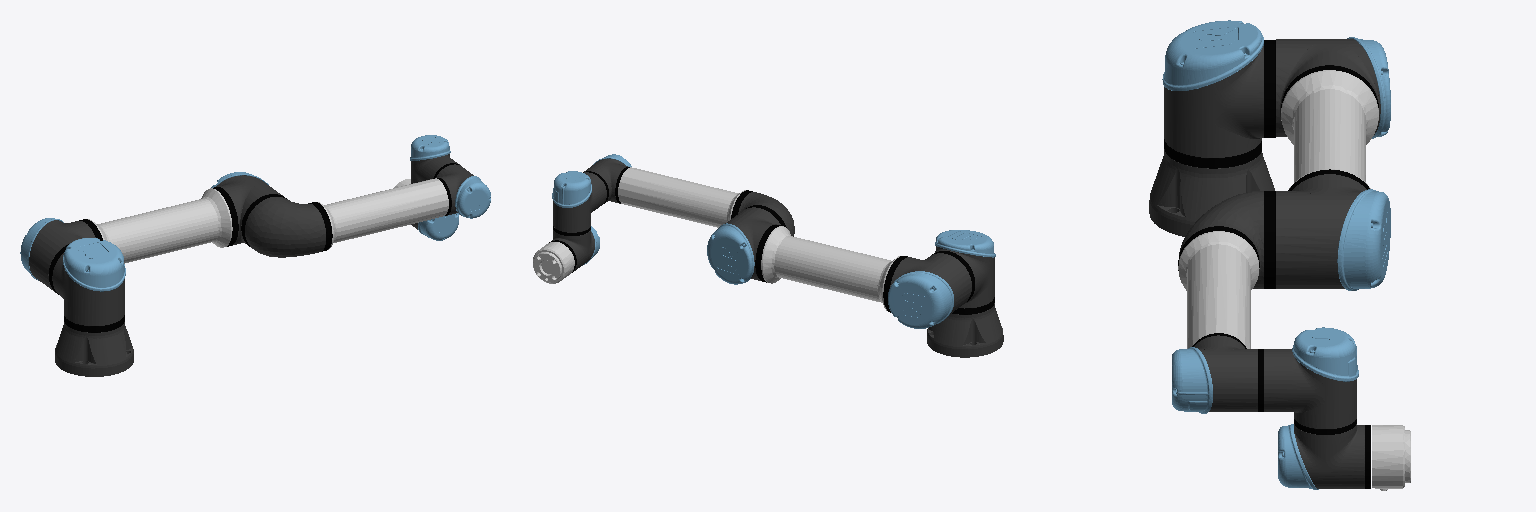
URDF robot description (ur5e):
<?xml version='1.0' encoding='utf-8'?>
<robot name="ur5e">
  
  
  
  <link name="world" />
  <ros2_control name="ur5e" type="system">
    <hardware>
      <plugin>ur_robot_driver/URPositionHardwareInterface</plugin>
      <param name="robot_ip">0.0.0.0</param>
      <param name="script_filename" />
      <param name="output_recipe_filename" />
      <param name="input_recipe_filename" />
      <param name="headless_mode">False</param>
      <param name="reverse_port">50001</param>
      <param name="script_sender_port">50002</param>
      <param name="reverse_ip">0.0.0.0</param>
      <param name="script_command_port">50004</param>
      <param name="trajectory_port">50003</param>
      <param name="tf_prefix" />
      <param name="non_blocking_read">False</param>
      <param name="servoj_gain">2000</param>
      <param name="servoj_lookahead_time">0.03</param>
      <param name="use_tool_communication">False</param>
      <param name="kinematics/hash">calib_12788084448423163542</param>
      <param name="tool_voltage">0</param>
      <param name="tool_parity">0</param>
      <param name="tool_baud_rate">115200</param>
      <param name="tool_stop_bits">1</param>
      <param name="tool_rx_idle_chars">1.5</param>
      <param name="tool_tx_idle_chars">3.5</param>
      <param name="tool_device_name">/tmp/ttyUR</param>
      <param name="tool_tcp_port">54321</param>
      <param name="keep_alive_count">2</param>
    </hardware>
    <joint name="shoulder_pan_joint">
      <command_interface name="position">
        <param name="min">{-2*pi}</param>
        <param name="max">{2*pi}</param>
      </command_interface>
      <command_interface name="velocity">
        <param name="min">-3.15</param>
        <param name="max">3.15</param>
      </command_interface>
      <state_interface name="position">
        
        <param name="initial_value">0.0</param>
      </state_interface>
      <state_interface name="velocity">
        <param name="initial_value">0.0</param>
      </state_interface>
      <state_interface name="effort">
        <param name="initial_value">0.0</param>
      </state_interface>
    </joint>
    <joint name="shoulder_lift_joint">
      <command_interface name="position">
        <param name="min">{-2*pi}</param>
        <param name="max">{2*pi}</param>
      </command_interface>
      <command_interface name="velocity">
        <param name="min">-3.15</param>
        <param name="max">3.15</param>
      </command_interface>
      <state_interface name="position">
        
        <param name="initial_value">-1.57</param>
      </state_interface>
      <state_interface name="velocity">
        <param name="initial_value">0.0</param>
      </state_interface>
      <state_interface name="effort">
        <param name="initial_value">0.0</param>
      </state_interface>
    </joint>
    <joint name="elbow_joint">
      <command_interface name="position">
        <param name="min">{-pi}</param>
        <param name="max">{pi}</param>
      </command_interface>
      <command_interface name="velocity">
        <param name="min">-3.15</param>
        <param name="max">3.15</param>
      </command_interface>
      <state_interface name="position">
        
        <param name="initial_value">0.0</param>
      </state_interface>
      <state_interface name="velocity">
        <param name="initial_value">0.0</param>
      </state_interface>
      <state_interface name="effort">
        <param name="initial_value">0.0</param>
      </state_interface>
    </joint>
    <joint name="wrist_1_joint">
      <command_interface name="position">
        <param name="min">{-2*pi}</param>
        <param name="max">{2*pi}</param>
      </command_interface>
      <command_interface name="velocity">
        <param name="min">-3.2</param>
        <param name="max">3.2</param>
      </command_interface>
      <state_interface name="position">
        
        <param name="initial_value">-1.57</param>
      </state_interface>
      <state_interface name="velocity">
        <param name="initial_value">0.0</param>
      </state_interface>
      <state_interface name="effort">
        <param name="initial_value">0.0</param>
      </state_interface>
    </joint>
    <joint name="wrist_2_joint">
      <command_interface name="position">
        <param name="min">{-2*pi}</param>
        <param name="max">{2*pi}</param>
      </command_interface>
      <command_interface name="velocity">
        <param name="min">-3.2</param>
        <param name="max">3.2</param>
      </command_interface>
      <state_interface name="position">
        
        <param name="initial_value">0.0</param>
      </state_interface>
      <state_interface name="velocity">
        <param name="initial_value">0.0</param>
      </state_interface>
      <state_interface name="effort">
        <param name="initial_value">0.0</param>
      </state_interface>
    </joint>
    <joint name="wrist_3_joint">
      <command_interface name="position">
        <param name="min">{-2*pi}</param>
        <param name="max">{2*pi}</param>
      </command_interface>
      <command_interface name="velocity">
        <param name="min">-3.2</param>
        <param name="max">3.2</param>
      </command_interface>
      <state_interface name="position">
        
        <param name="initial_value">0.0</param>
      </state_interface>
      <state_interface name="velocity">
        <param name="initial_value">0.0</param>
      </state_interface>
      <state_interface name="effort">
        <param name="initial_value">0.0</param>
      </state_interface>
    </joint>
    <sensor name="tcp_fts_sensor">
      <state_interface name="force.x" />
      <state_interface name="force.y" />
      <state_interface name="force.z" />
      <state_interface name="torque.x" />
      <state_interface name="torque.y" />
      <state_interface name="torque.z" />
    </sensor>
    
    <gpio name="speed_scaling">
      <state_interface name="speed_scaling_factor" />
      <param name="initial_speed_scaling_factor">1</param>
      <command_interface name="target_speed_fraction_cmd" />
      <command_interface name="target_speed_fraction_async_success" />
    </gpio>
    <gpio name="gpio">
      <command_interface name="standard_digital_output_cmd_0" />
      <command_interface name="standard_digital_output_cmd_1" />
      <command_interface name="standard_digital_output_cmd_2" />
      <command_interface name="standard_digital_output_cmd_3" />
      <command_interface name="standard_digital_output_cmd_4" />
      <command_interface name="standard_digital_output_cmd_5" />
      <command_interface name="standard_digital_output_cmd_6" />
      <command_interface name="standard_digital_output_cmd_7" />
      <command_interface name="standard_digital_output_cmd_8" />
      <command_interface name="standard_digital_output_cmd_9" />
      <command_interface name="standard_digital_output_cmd_10" />
      <command_interface name="standard_digital_output_cmd_11" />
      <command_interface name="standard_digital_output_cmd_12" />
      <command_interface name="standard_digital_output_cmd_13" />
      <command_interface name="standard_digital_output_cmd_14" />
      <command_interface name="standard_digital_output_cmd_15" />
      <command_interface name="standard_digital_output_cmd_16" />
      <command_interface name="standard_digital_output_cmd_17" />
      <command_interface name="standard_analog_output_cmd_0" />
      <command_interface name="standard_analog_output_cmd_1" />
      <command_interface name="tool_voltage_cmd" />
      <command_interface name="io_async_success" />
      <state_interface name="digital_output_0" />
      <state_interface name="digital_output_1" />
      <state_interface name="digital_output_2" />
      <state_interface name="digital_output_3" />
      <state_interface name="digital_output_4" />
      <state_interface name="digital_output_5" />
      <state_interface name="digital_output_6" />
      <state_interface name="digital_output_7" />
      <state_interface name="digital_output_8" />
      <state_interface name="digital_output_9" />
      <state_interface name="digital_output_10" />
      <state_interface name="digital_output_11" />
      <state_interface name="digital_output_12" />
      <state_interface name="digital_output_13" />
      <state_interface name="digital_output_14" />
      <state_interface name="digital_output_15" />
      <state_interface name="digital_output_16" />
      <state_interface name="digital_output_17" />
      <state_interface name="digital_input_0" />
      <state_interface name="digital_input_1" />
      <state_interface name="digital_input_2" />
      <state_interface name="digital_input_3" />
      <state_interface name="digital_input_4" />
      <state_interface name="digital_input_5" />
      <state_interface name="digital_input_6" />
      <state_interface name="digital_input_7" />
      <state_interface name="digital_input_8" />
      <state_interface name="digital_input_9" />
      <state_interface name="digital_input_10" />
      <state_interface name="digital_input_11" />
      <state_interface name="digital_input_12" />
      <state_interface name="digital_input_13" />
      <state_interface name="digital_input_14" />
      <state_interface name="digital_input_15" />
      <state_interface name="digital_input_16" />
      <state_interface name="digital_input_17" />
      <state_interface name="standard_analog_output_0" />
      <state_interface name="standard_analog_output_1" />
      <state_interface name="standard_analog_input_0" />
      <state_interface name="standard_analog_input_1" />
      <state_interface name="analog_io_type_0" />
      <state_interface name="analog_io_type_1" />
      <state_interface name="analog_io_type_2" />
      <state_interface name="analog_io_type_3" />
      <state_interface name="tool_mode" />
      <state_interface name="tool_output_voltage" />
      <state_interface name="tool_output_current" />
      <state_interface name="tool_temperature" />
      <state_interface name="tool_analog_input_0" />
      <state_interface name="tool_analog_input_1" />
      <state_interface name="tool_analog_input_type_0" />
      <state_interface name="tool_analog_input_type_1" />
      <state_interface name="robot_mode" />
      <state_interface name="robot_status_bit_0" />
      <state_interface name="robot_status_bit_1" />
      <state_interface name="robot_status_bit_2" />
      <state_interface name="robot_status_bit_3" />
      <state_interface name="safety_mode" />
      <state_interface name="safety_status_bit_0" />
      <state_interface name="safety_status_bit_1" />
      <state_interface name="safety_status_bit_2" />
      <state_interface name="safety_status_bit_3" />
      <state_interface name="safety_status_bit_4" />
      <state_interface name="safety_status_bit_5" />
      <state_interface name="safety_status_bit_6" />
      <state_interface name="safety_status_bit_7" />
      <state_interface name="safety_status_bit_8" />
      <state_interface name="safety_status_bit_9" />
      <state_interface name="safety_status_bit_10" />
      <state_interface name="program_running" />
    </gpio>
    <gpio name="payload">
      <command_interface name="mass" />
      <command_interface name="cog.x" />
      <command_interface name="cog.y" />
      <command_interface name="cog.z" />
      <command_interface name="payload_async_success" />
    </gpio>
    <gpio name="resend_robot_program">
      <command_interface name="resend_robot_program_cmd" />
      <command_interface name="resend_robot_program_async_success" />
    </gpio>
    <gpio name="hand_back_control">
      <command_interface name="hand_back_control_cmd" />
      <command_interface name="hand_back_control_async_success" />
    </gpio>
    <gpio name="zero_ftsensor">
      <command_interface name="zero_ftsensor_cmd" />
      <command_interface name="zero_ftsensor_async_success" />
    </gpio>
    <gpio name="force_mode">
      <command_interface name="task_frame_x" />
      <command_interface name="task_frame_y" />
      <command_interface name="task_frame_z" />
      <command_interface name="task_frame_rx" />
      <command_interface name="task_frame_ry" />
      <command_interface name="task_frame_rz" />
      <command_interface name="selection_vector_x" />
      <command_interface name="selection_vector_y" />
      <command_interface name="selection_vector_z" />
      <command_interface name="selection_vector_rx" />
      <command_interface name="selection_vector_ry" />
      <command_interface name="selection_vector_rz" />
      <command_interface name="wrench_x" />
      <command_interface name="wrench_y" />
      <command_interface name="wrench_z" />
      <command_interface name="wrench_rx" />
      <command_interface name="wrench_ry" />
      <command_interface name="wrench_rz" />
      <command_interface name="limits_x" />
      <command_interface name="limits_y" />
      <command_interface name="limits_z" />
      <command_interface name="limits_rx" />
      <command_interface name="limits_ry" />
      <command_interface name="limits_rz" />
      <command_interface name="type" />
      <command_interface name="disable_cmd" />
      <command_interface name="force_mode_async_success" />
      <command_interface name="damping" />
      <command_interface name="gain_scaling" />
    </gpio>
    <gpio name="system_interface">
      <state_interface name="initialized" />
    </gpio>
  </ros2_control>
  
  
  
  
  <link name="base_link" />
  <link name="base_link_inertia">
    <visual>
      <origin rpy="0 0 3.141592653589793" xyz="0 0 0" />
      <geometry>
        <mesh filename="meshes/base.dae" />
      </geometry>
    </visual>
    <collision>
      <origin rpy="0 0 3.141592653589793" xyz="0 0 0" />
      <geometry>
        <mesh filename="meshes/base.stl" />
      </geometry>
    </collision>
    <inertial>
      <mass value="4.0" />
      <origin rpy="0 0 0" xyz="0 0 0" />
      <inertia ixx="0.00443333156" ixy="0.0" ixz="0.0" iyy="0.00443333156" iyz="0.0" izz="0.0072" />
    </inertial>
  </link>
  <link name="shoulder_link">
    <visual>
      <origin rpy="0 0 3.141592653589793" xyz="0 0 0" />
      <geometry>
        <mesh filename="meshes/shoulder.dae" />
      </geometry>
    </visual>
    <collision>
      <origin rpy="0 0 3.141592653589793" xyz="0 0 0" />
      <geometry>
        <mesh filename="meshes/shoulder.stl" />
      </geometry>
    </collision>
    <inertial>
      <mass value="3.7" />
      <origin rpy="0 0 0" xyz="0 0 0" />
      <inertia ixx="0.010267495893" ixy="0.0" ixz="0.0" iyy="0.010267495893" iyz="0.0" izz="0.00666" />
    </inertial>
  </link>
  <link name="upper_arm_link">
    <visual>
      <origin rpy="1.5707963267948966 0 -1.5707963267948966" xyz="0 0 0.138" />
      <geometry>
        <mesh filename="meshes/upperarm.dae" />
      </geometry>
    </visual>
    <collision>
      <origin rpy="1.5707963267948966 0 -1.5707963267948966" xyz="0 0 0.138" />
      <geometry>
        <mesh filename="meshes/upperarm.stl" />
      </geometry>
    </collision>
    <inertial>
      <mass value="8.393" />
      <origin rpy="0 1.5707963267948966 0" xyz="-0.2125 0.0 0.138" />
      <inertia ixx="0.1338857818623325" ixy="0.0" ixz="0.0" iyy="0.1338857818623325" iyz="0.0" izz="0.0151074" />
    </inertial>
  </link>
  <link name="forearm_link">
    <visual>
      <origin rpy="1.5707963267948966 0 -1.5707963267948966" xyz="0 0 0.007" />
      <geometry>
        <mesh filename="meshes/forearm.dae" />
      </geometry>
    </visual>
    <collision>
      <origin rpy="1.5707963267948966 0 -1.5707963267948966" xyz="0 0 0.007" />
      <geometry>
        <mesh filename="meshes/forearm.stl" />
      </geometry>
    </collision>
    <inertial>
      <mass value="2.275" />
      <origin rpy="0 1.5707963267948966 0" xyz="-0.1961 0.0 0.007" />
      <inertia ixx="0.031209355099586295" ixy="0.0" ixz="0.0" iyy="0.031209355099586295" iyz="0.0" izz="0.004095" />
    </inertial>
  </link>
  <link name="wrist_1_link">
    <visual>
      <origin rpy="1.5707963267948966 0 0" xyz="0 0 -0.127" />
      <geometry>
        <mesh filename="meshes/wrist1.dae" />
      </geometry>
    </visual>
    <collision>
      <origin rpy="1.5707963267948966 0 0" xyz="0 0 -0.127" />
      <geometry>
        <mesh filename="meshes/wrist1.stl" />
      </geometry>
    </collision>
    <inertial>
      <mass value="1.219" />
      <origin rpy="0 0 0" xyz="0 0 0" />
      <inertia ixx="0.0025598989760400002" ixy="0.0" ixz="0.0" iyy="0.0025598989760400002" iyz="0.0" izz="0.0021942" />
    </inertial>
  </link>
  <link name="wrist_2_link">
    <visual>
      <origin rpy="0 0 0" xyz="0 0 -0.0997" />
      <geometry>
        <mesh filename="meshes/wrist2.dae" />
      </geometry>
    </visual>
    <collision>
      <origin rpy="0 0 0" xyz="0 0 -0.0997" />
      <geometry>
        <mesh filename="meshes/wrist2.stl" />
      </geometry>
    </collision>
    <inertial>
      <mass value="1.219" />
      <origin rpy="0 0 0" xyz="0 0 0" />
      <inertia ixx="0.0025598989760400002" ixy="0.0" ixz="0.0" iyy="0.0025598989760400002" iyz="0.0" izz="0.0021942" />
    </inertial>
  </link>
  <link name="wrist_3_link">
    <visual>
      <origin rpy="1.5707963267948966 0 0" xyz="0 0 -0.0989" />
      <geometry>
        <mesh filename="meshes/wrist3.dae" />
      </geometry>
    </visual>
    <collision>
      <origin rpy="1.5707963267948966 0 0" xyz="0 0 -0.0989" />
      <geometry>
        <mesh filename="meshes/wrist3.stl" />
      </geometry>
    </collision>
    <inertial>
      <mass value="0.1879" />
      <origin rpy="0 0 0" xyz="0.0 0.0 -0.0229" />
      <inertia ixx="9.890410052167731e-05" ixy="0.0" ixz="0.0" iyy="9.890410052167731e-05" iyz="0.0" izz="0.0001321171875" />
    </inertial>
  </link>
  
  <joint name="base_joint" type="fixed">
    <origin rpy="0 0 0" xyz="0 0 0" />
    <parent link="world" />
    <child link="base_link" />
  </joint>
  
  <joint name="base_link-base_link_inertia" type="fixed">
    <parent link="base_link" />
    <child link="base_link_inertia" />
    
    <origin rpy="0 0 3.141592653589793" xyz="0 0 0" />
  </joint>
  <joint name="shoulder_pan_joint" type="revolute">
    <parent link="base_link_inertia" />
    <child link="shoulder_link" />
    <origin rpy="0 0 0" xyz="0 0 0.1625" />
    <axis xyz="0 0 1" />
    <limit effort="150.0" lower="-6.283185307179586" upper="6.283185307179586" velocity="3.141592653589793" />
    <dynamics damping="0" friction="0" />
  </joint>
  <joint name="shoulder_lift_joint" type="revolute">
    <parent link="shoulder_link" />
    <child link="upper_arm_link" />
    <origin rpy="1.570796327 0 0" xyz="0 0 0" />
    <axis xyz="0 0 1" />
    <limit effort="150.0" lower="-6.283185307179586" upper="6.283185307179586" velocity="3.141592653589793" />
    <dynamics damping="0" friction="0" />
  </joint>
  <joint name="elbow_joint" type="revolute">
    <parent link="upper_arm_link" />
    <child link="forearm_link" />
    <origin rpy="0 0 0" xyz="-0.425 0 0" />
    <axis xyz="0 0 1" />
    <limit effort="150.0" lower="-3.141592653589793" upper="3.141592653589793" velocity="3.141592653589793" />
    <dynamics damping="0" friction="0" />
  </joint>
  <joint name="wrist_1_joint" type="revolute">
    <parent link="forearm_link" />
    <child link="wrist_1_link" />
    <origin rpy="0 0 0" xyz="-0.3922 0 0.1333" />
    <axis xyz="0 0 1" />
    <limit effort="28.0" lower="-6.283185307179586" upper="6.283185307179586" velocity="3.141592653589793" />
    <dynamics damping="0" friction="0" />
  </joint>
  <joint name="wrist_2_joint" type="revolute">
    <parent link="wrist_1_link" />
    <child link="wrist_2_link" />
    <origin rpy="1.570796327 0 0" xyz="0 -0.0997 -2.044881182297852e-11" />
    <axis xyz="0 0 1" />
    <limit effort="28.0" lower="-6.283185307179586" upper="6.283185307179586" velocity="3.141592653589793" />
    <dynamics damping="0" friction="0" />
  </joint>
  <joint name="wrist_3_joint" type="revolute">
    <parent link="wrist_2_link" />
    <child link="wrist_3_link" />
    <origin rpy="1.570796326589793 3.141592653589793 3.141592653589793" xyz="0 0.0996 -2.042830148012698e-11" />
    <axis xyz="0 0 1" />
    <limit effort="28.0" lower="-6.283185307179586" upper="6.283185307179586" velocity="3.141592653589793" />
    <dynamics damping="0" friction="0" />
  </joint>
  <link name="ft_frame" />
  <joint name="wrist_3_link-ft_frame" type="fixed">
    <parent link="wrist_3_link" />
    <child link="ft_frame" />
    <origin rpy="3.141592653589793 0 0" xyz="0 0 0" />
  </joint>
  
  <link name="base" />
  <joint name="base_link-base_fixed_joint" type="fixed">
    
    <origin rpy="0 0 3.141592653589793" xyz="0 0 0" />
    <parent link="base_link" />
    <child link="base" />
  </joint>
  
  <link name="flange" />
  <joint name="wrist_3-flange" type="fixed">
    <parent link="wrist_3_link" />
    <child link="flange" />
    <origin rpy="0 -1.5707963267948966 -1.5707963267948966" xyz="0 0 0" />
  </joint>
  
  <link name="tool0" />
  <joint name="flange-tool0" type="fixed">
    
    <origin rpy="1.5707963267948966 0 1.5707963267948966" xyz="0 0 0" />
    <parent link="flange" />
    <child link="tool0" />
  </joint>
</robot>

--- Render facts (derived) ---
Views: 3 orthographic renders of the robot side by side, from view 1: azimuth 30°, elevation 25°; view 2: azimuth 150°, elevation 25°; view 3: azimuth 270°, elevation 25°.
Model ur5e with 13 links and 12 joints (6 revolute, 6 fixed), rooted at world, posed all joints at 0.
Links seen in each view (by area): view 1: forearm_link, upper_arm_link, shoulder_link, base_link_inertia, wrist_1_link, wrist_2_link; view 2: upper_arm_link, forearm_link, base_link_inertia, wrist_1_link, shoulder_link, wrist_3_link, wrist_2_link; view 3: upper_arm_link, forearm_link, shoulder_link, wrist_1_link, base_link_inertia, wrist_2_link, wrist_3_link.
Boxes of the visible links, x1=… form: forearm_link: x1=245, y1=163, x2=490, y2=257; upper_arm_link: x1=20, y1=172, x2=286, y2=292; shoulder_link: x1=49, y1=238, x2=125, y2=325; base_link_inertia: x1=55, y1=315, x2=133, y2=376; wrist_1_link: x1=410, y1=135, x2=460, y2=183; wrist_2_link: x1=411, y1=213, x2=458, y2=240; upper_arm_link: x1=707, y1=205, x2=971, y2=328; forearm_link: x1=583, y1=154, x2=794, y2=236; base_link_inertia: x1=927, y1=297, x2=1003, y2=357; wrist_1_link: x1=552, y1=171, x2=606, y2=235; shoulder_link: x1=932, y1=230, x2=995, y2=308; wrist_3_link: x1=533, y1=242, x2=574, y2=283; wrist_2_link: x1=549, y1=226, x2=599, y2=272; upper_arm_link: x1=1264, y1=37, x2=1390, y2=290; forearm_link: x1=1172, y1=191, x2=1263, y2=413; shoulder_link: x1=1162, y1=20, x2=1275, y2=157; wrist_1_link: x1=1264, y1=327, x2=1358, y2=434; base_link_inertia: x1=1149, y1=139, x2=1274, y2=236; wrist_2_link: x1=1278, y1=424, x2=1370, y2=489; wrist_3_link: x1=1372, y1=425, x2=1410, y2=490.
Size in the robot's own frame: 0.932 by 0.3085 by 0.234 metres.
Meshes: 7 distinct files referenced, 7 mesh visuals loaded (7 Collada DAE).
